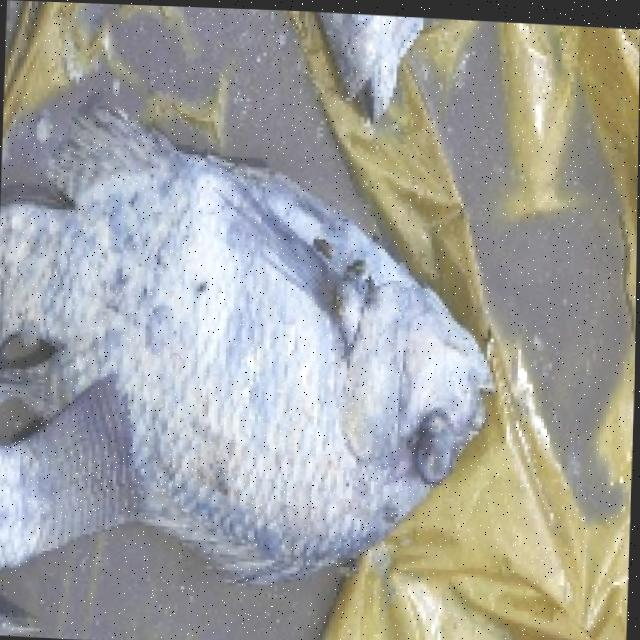Non-Fresh: (0, 128, 502, 574)
